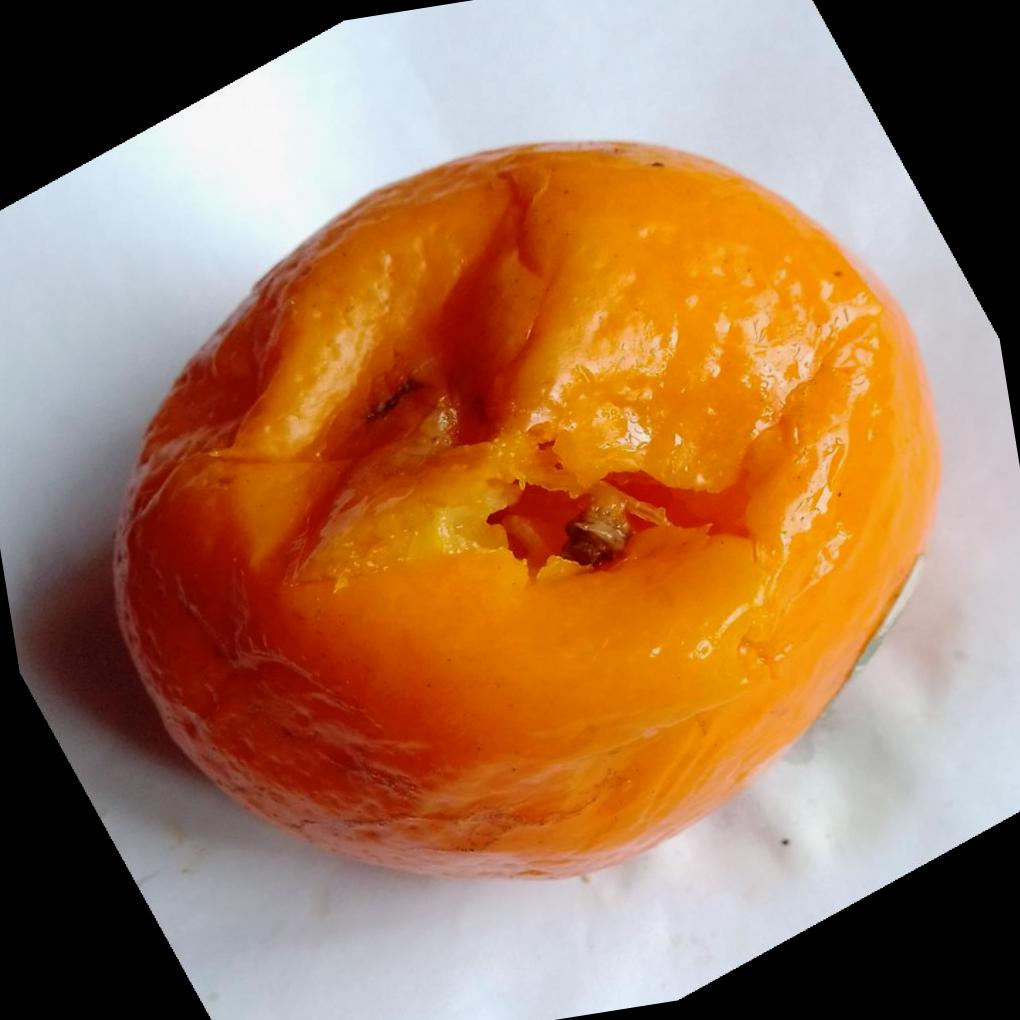FreshOrange: (108, 140, 941, 887)
